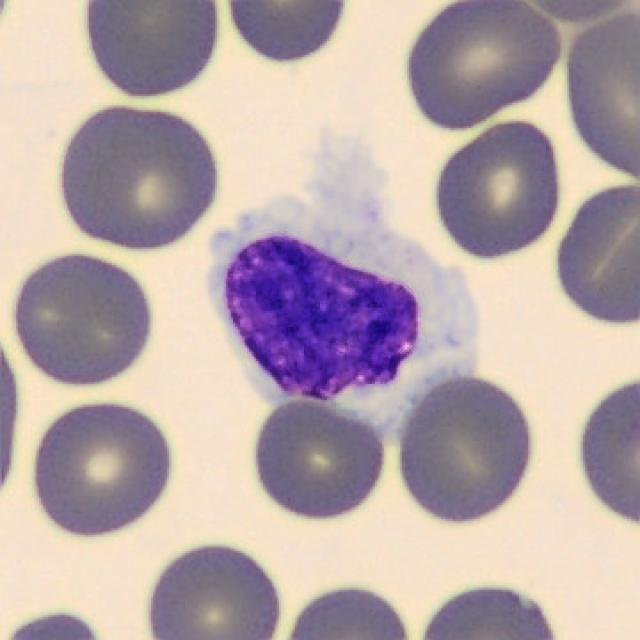Linfocito atipico: (208, 117, 480, 464)
